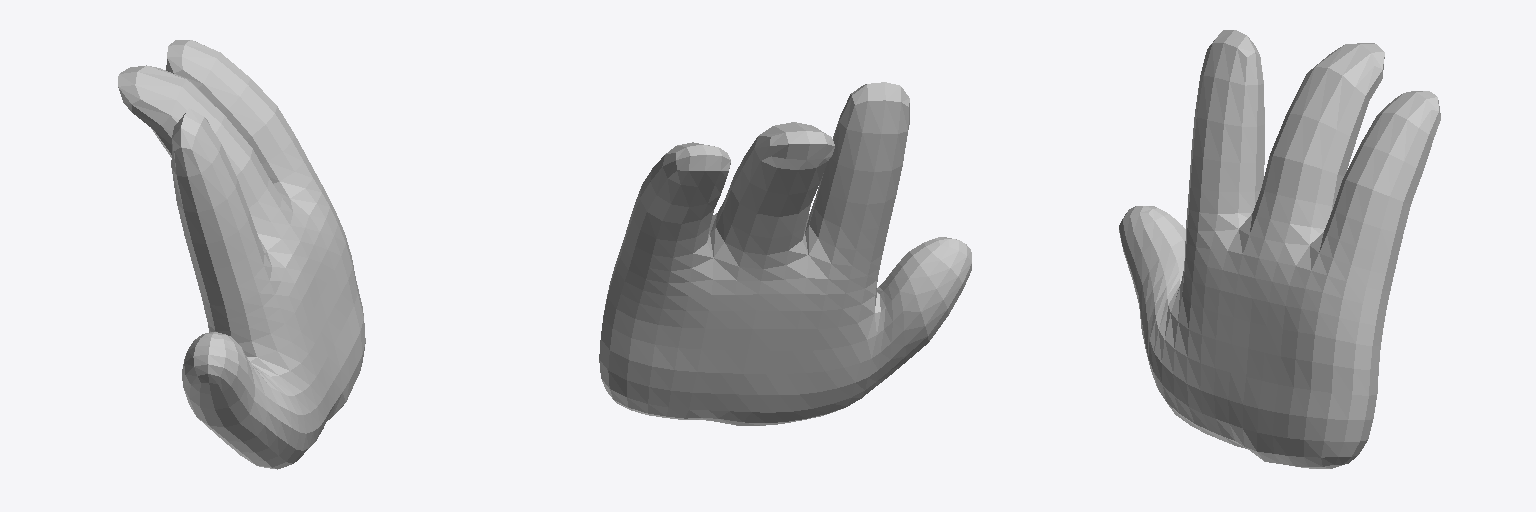
The model's file is 2hands_relaxed_L.obj.
3 views of the same model, side by side, from view 1: azimuth 30°, elevation 25°; view 2: azimuth 150°, elevation 25°; view 3: azimuth 270°, elevation 25° (orthographic).
Parts seen in each view (by area): view 1: hands_relaxedL_Cube.001_Cube.002; view 2: hands_relaxedL_Cube.001_Cube.002; view 3: hands_relaxedL_Cube.001_Cube.002.
Part boxes in pixels (x1,y1,x2,y2): hands_relaxedL_Cube.001_Cube.002: (118,40,365,469); hands_relaxedL_Cube.001_Cube.002: (599,82,971,425); hands_relaxedL_Cube.001_Cube.002: (1119,30,1440,468).
Bounding box in the file's own units: 1.92 × 2.48 × 2.01.